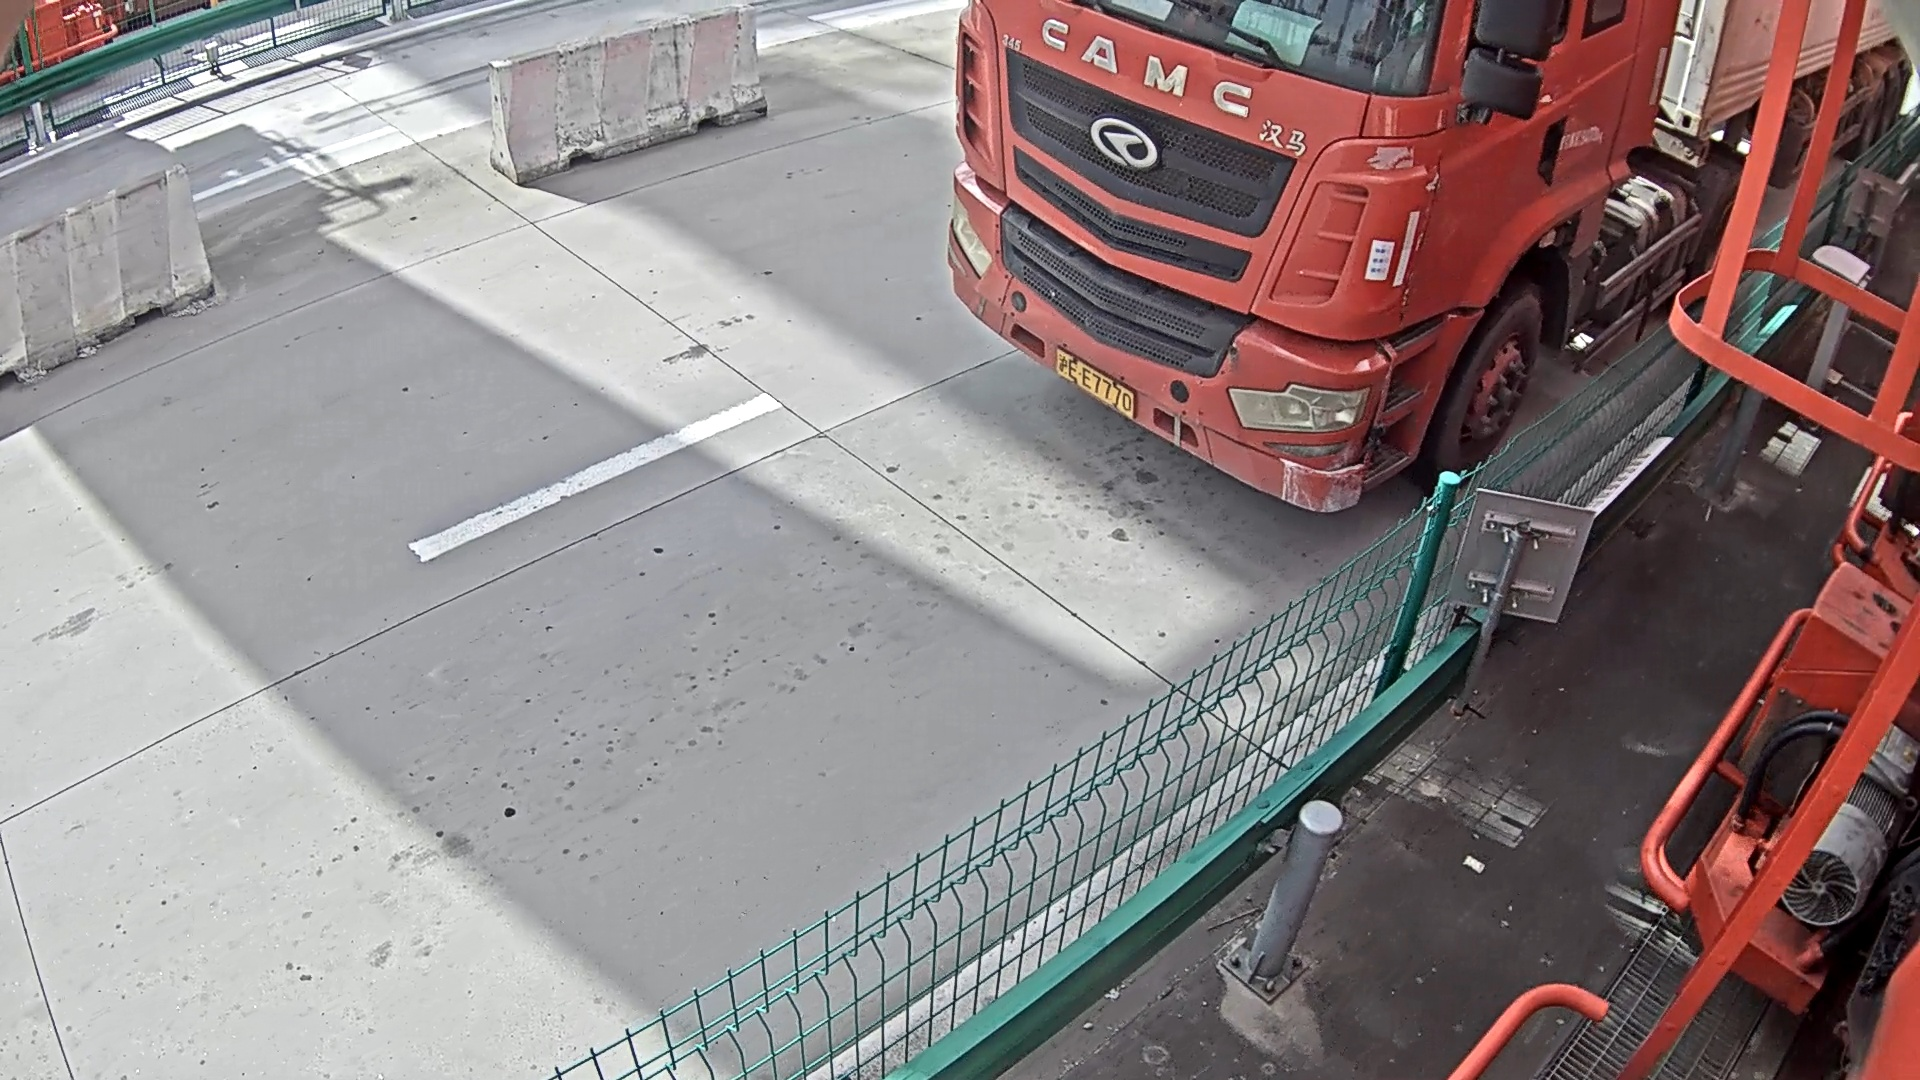head: (955, 3, 1676, 502)
plate: (1052, 345, 1132, 421)
